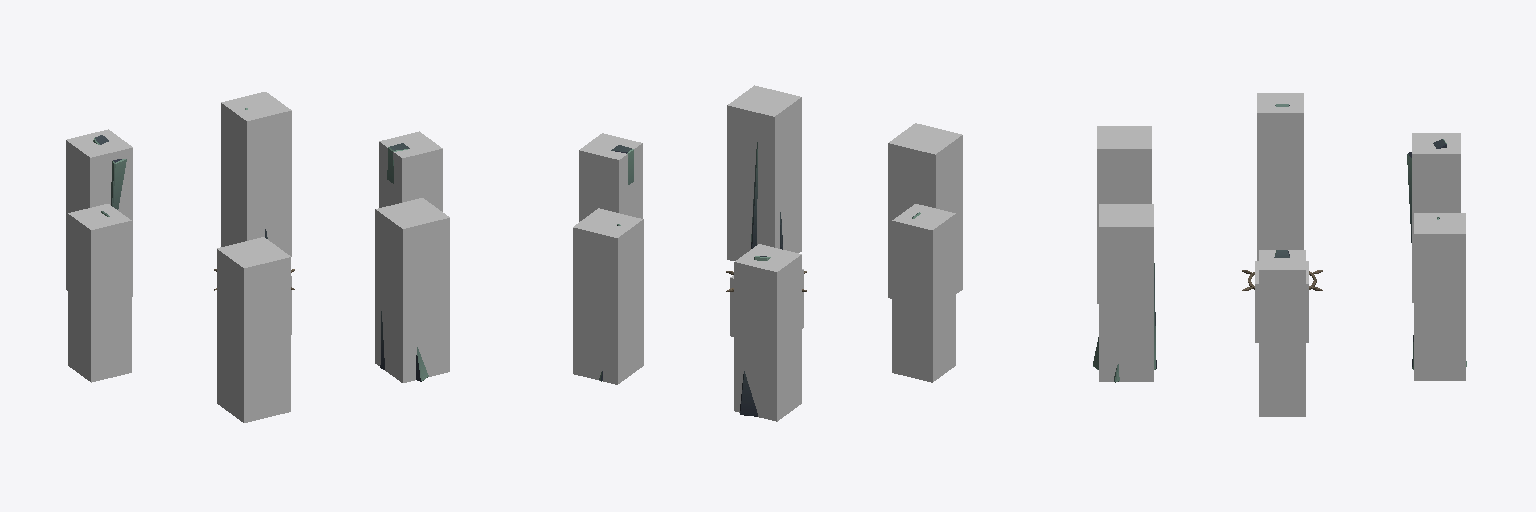
The picture shows the model from 3 angles: view 1: azimuth 30°, elevation 25°; view 2: azimuth 150°, elevation 25°; view 3: azimuth 270°, elevation 25°; orthographic projection.
Visible parts, largest first — view 1: cBox_Menhir_Cube.041, cBox_Menhir.005_Cube.050, cBox_Menhir.001_Cube.046, cBox_Menhir.003_Cube.048, cBox_Menhir.002_Cube.047, cBox_Menhir.004_Cube.049, Menhir01_Cube.029; view 2: cBox_Menhir.003_Cube.048, cBox_Menhir.005_Cube.050, cBox_Menhir.002_Cube.047, cBox_Menhir.001_Cube.046, cBox_Menhir_Cube.041, cBox_Menhir.004_Cube.049; view 3: cBox_Menhir.005_Cube.050, cBox_Menhir.003_Cube.048, cBox_Menhir.004_Cube.049, cBox_Menhir.001_Cube.046, cBox_Menhir_Cube.041, cBox_Menhir.002_Cube.047, cBox_Socle_Cube.051.
Boxes of the visible parts, x1,y1,x2,y2 form: cBox_Menhir_Cube.041: [217, 237, 290, 422]; cBox_Menhir.005_Cube.050: [375, 198, 449, 382]; cBox_Menhir.001_Cube.046: [68, 204, 131, 382]; cBox_Menhir.003_Cube.048: [221, 92, 291, 256]; cBox_Menhir.002_Cube.047: [66, 129, 132, 296]; cBox_Menhir.004_Cube.049: [379, 131, 442, 211]; Menhir01_Cube.029: [93, 135, 126, 209]; cBox_Menhir.003_Cube.048: [573, 208, 643, 384]; cBox_Menhir.005_Cube.050: [727, 85, 801, 260]; cBox_Menhir.002_Cube.047: [734, 244, 801, 421]; cBox_Menhir.001_Cube.046: [892, 204, 955, 382]; cBox_Menhir_Cube.041: [888, 123, 962, 298]; cBox_Menhir.004_Cube.049: [579, 133, 642, 221]; cBox_Menhir.005_Cube.050: [1099, 204, 1153, 381]; cBox_Menhir.003_Cube.048: [1414, 213, 1465, 380]; cBox_Menhir.004_Cube.049: [1259, 250, 1305, 416]; cBox_Menhir.001_Cube.046: [1257, 93, 1303, 260]; cBox_Menhir_Cube.041: [1097, 126, 1151, 303]; cBox_Menhir.002_Cube.047: [1412, 133, 1460, 302]; cBox_Socle_Cube.051: [1255, 261, 1308, 342].
Bounding box in the file's own units: 17.46 × 7.54 × 16.07.
3 materials, 2 textured.